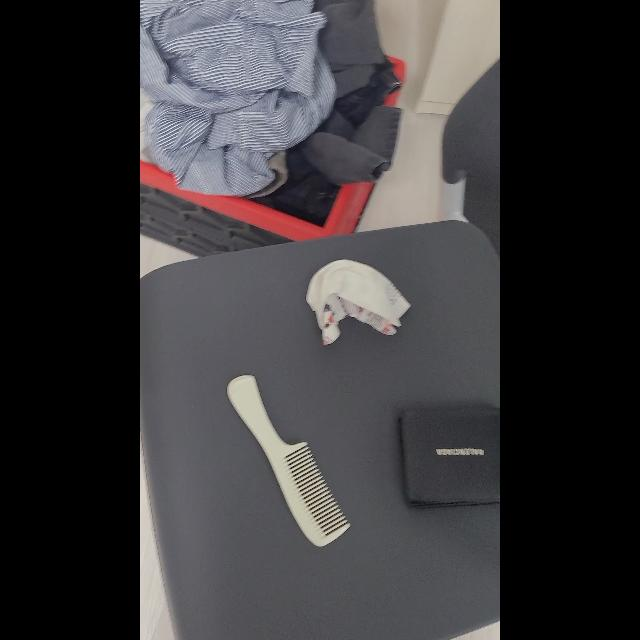COMB: (226, 374, 350, 548)
Glasses cleaning cloth: (306, 259, 410, 345)
WALLET: (398, 405, 500, 509)
